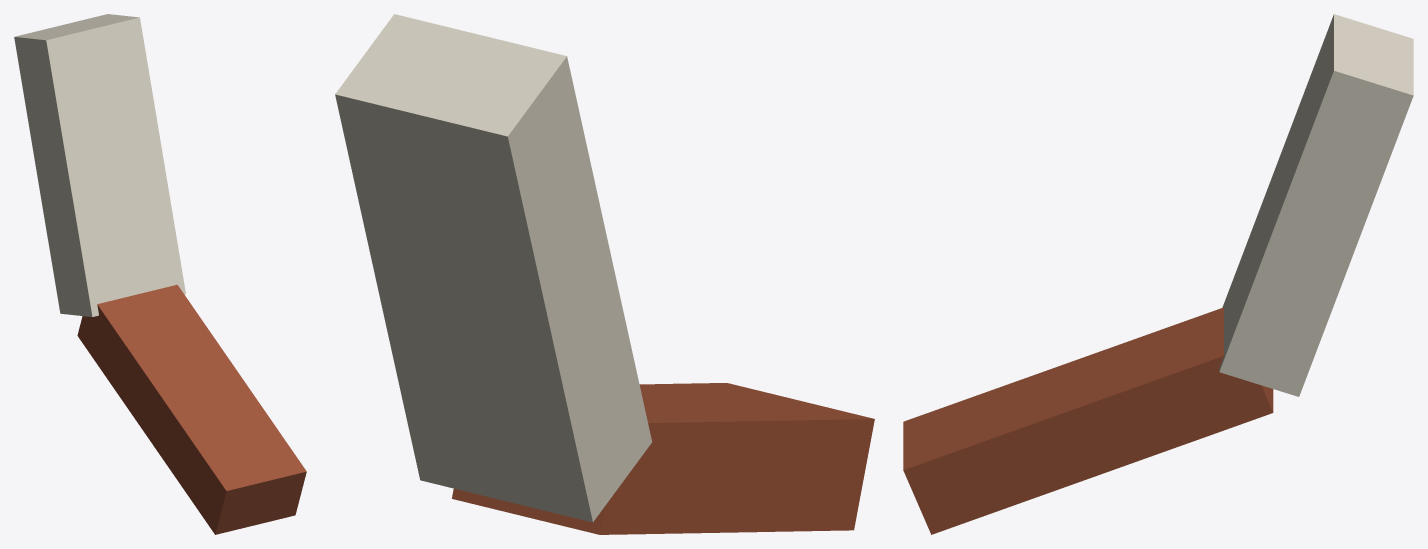
The model's file is rm2_claw_jaw_b.obj.
The picture shows the model from 3 angles, left to right: view 1: azimuth 30°, elevation 25°; view 2: azimuth 150°, elevation 25°; view 3: azimuth 270°, elevation 25°; orthographic projection. The views are drawn at different scales.
Visible parts, largest first — view 1: rm2_claw_jaw_b; view 2: rm2_claw_jaw_b; view 3: rm2_claw_jaw_b.
Boxes of the visible parts, left/top/right/bottom form: rm2_claw_jaw_b: left=14, top=14, right=306, bottom=534; rm2_claw_jaw_b: left=335, top=14, right=874, bottom=534; rm2_claw_jaw_b: left=903, top=14, right=1413, bottom=534.
Size of the model in its own units: 0.035 by 0.1348 by 0.1331.
